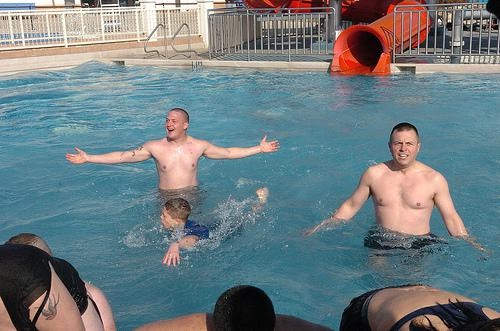swimmer: (318, 122, 485, 252), (62, 108, 280, 194), (154, 196, 244, 266)
